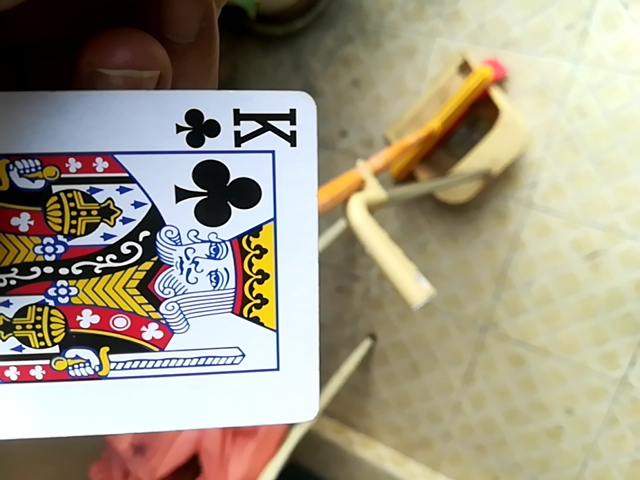mh k: (1, 83, 327, 446)
